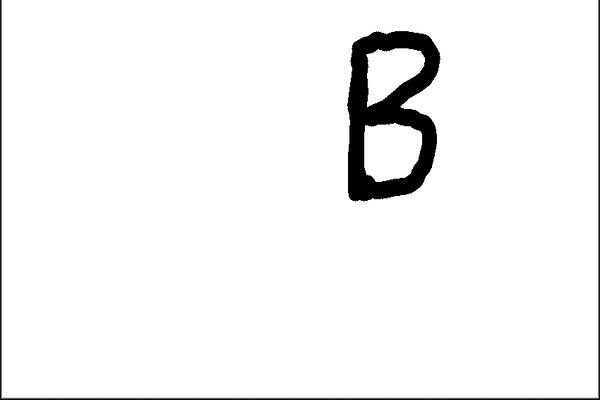B: (337, 26, 444, 207)
